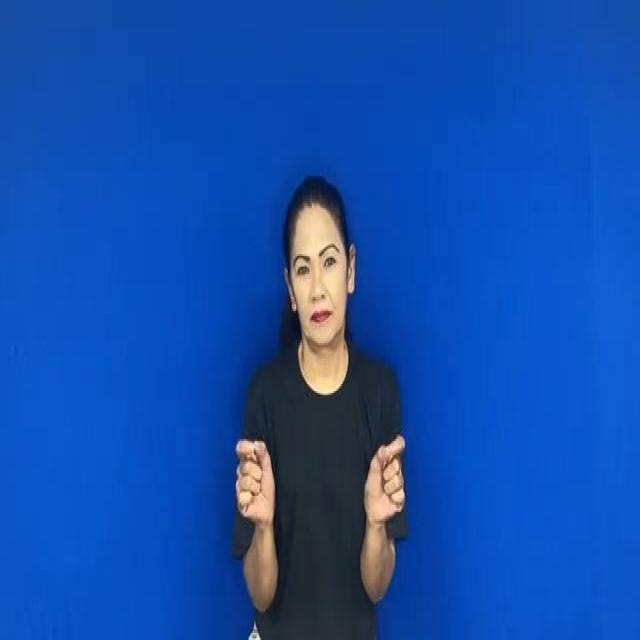crab: (220, 429, 422, 524)
